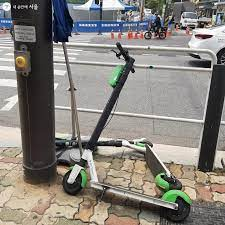fallin_kick: (58, 136, 182, 188)
kick_body: (97, 179, 166, 206)
kick_handler: (114, 42, 135, 73)
kick_wheel: (163, 189, 191, 221), (63, 167, 86, 195)
